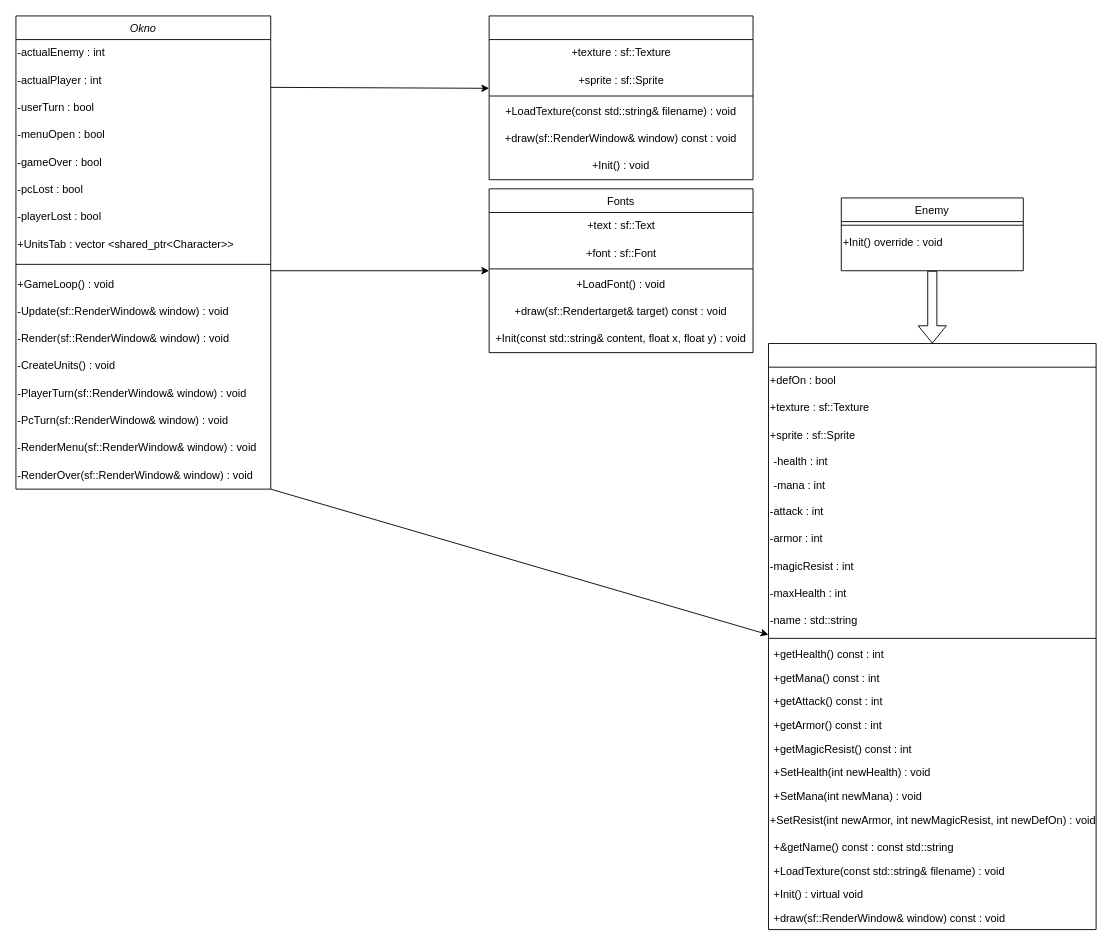
The diagram is 1112 pixels wide and 948 high, and some of its shapes have lost their labels. Each missing label, with the box of its shape:
Background: (488, 15, 753, 180)
Character: (768, 343, 1096, 930)
